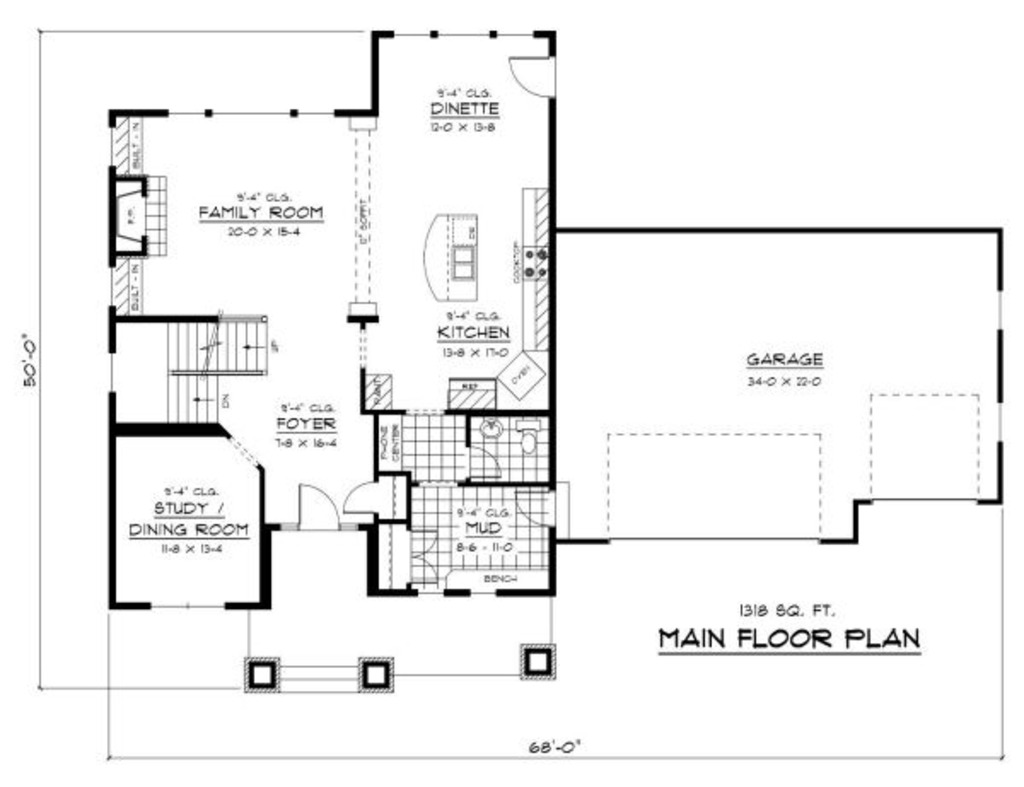door: (290, 478, 341, 531), (508, 53, 558, 95), (340, 480, 380, 519)
kitchen_bar: (421, 208, 483, 306)
large_sink: (513, 416, 543, 453)
stairs: (110, 318, 276, 427)
windows: (162, 106, 338, 125), (389, 23, 534, 42), (144, 598, 236, 613)
